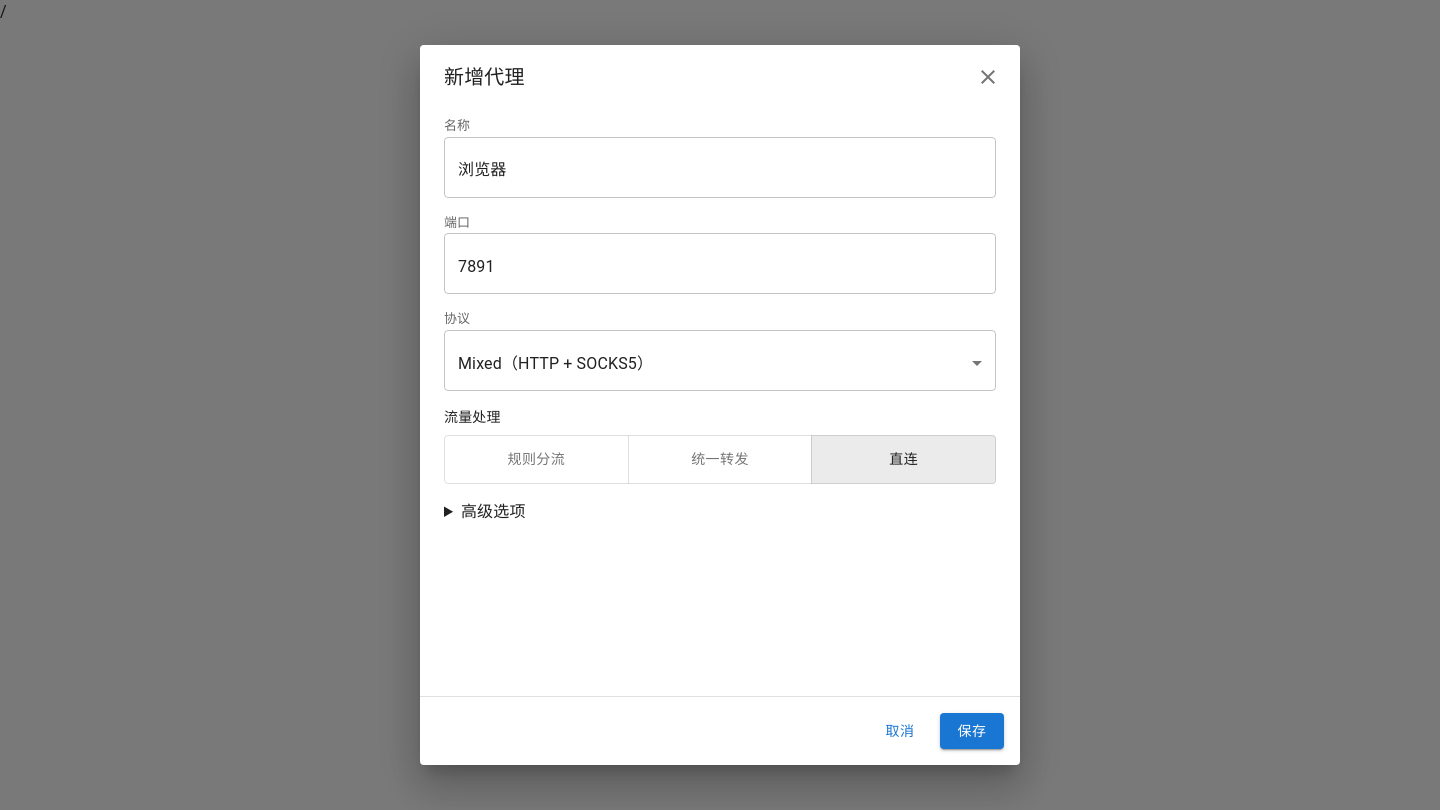
Test: ListenerDialog V4.3 › keeps validation conflicts attached to the port
The image size is (1440, 810).
Click the button "保存".
click(972, 731)  # box [940,712,1004,749]
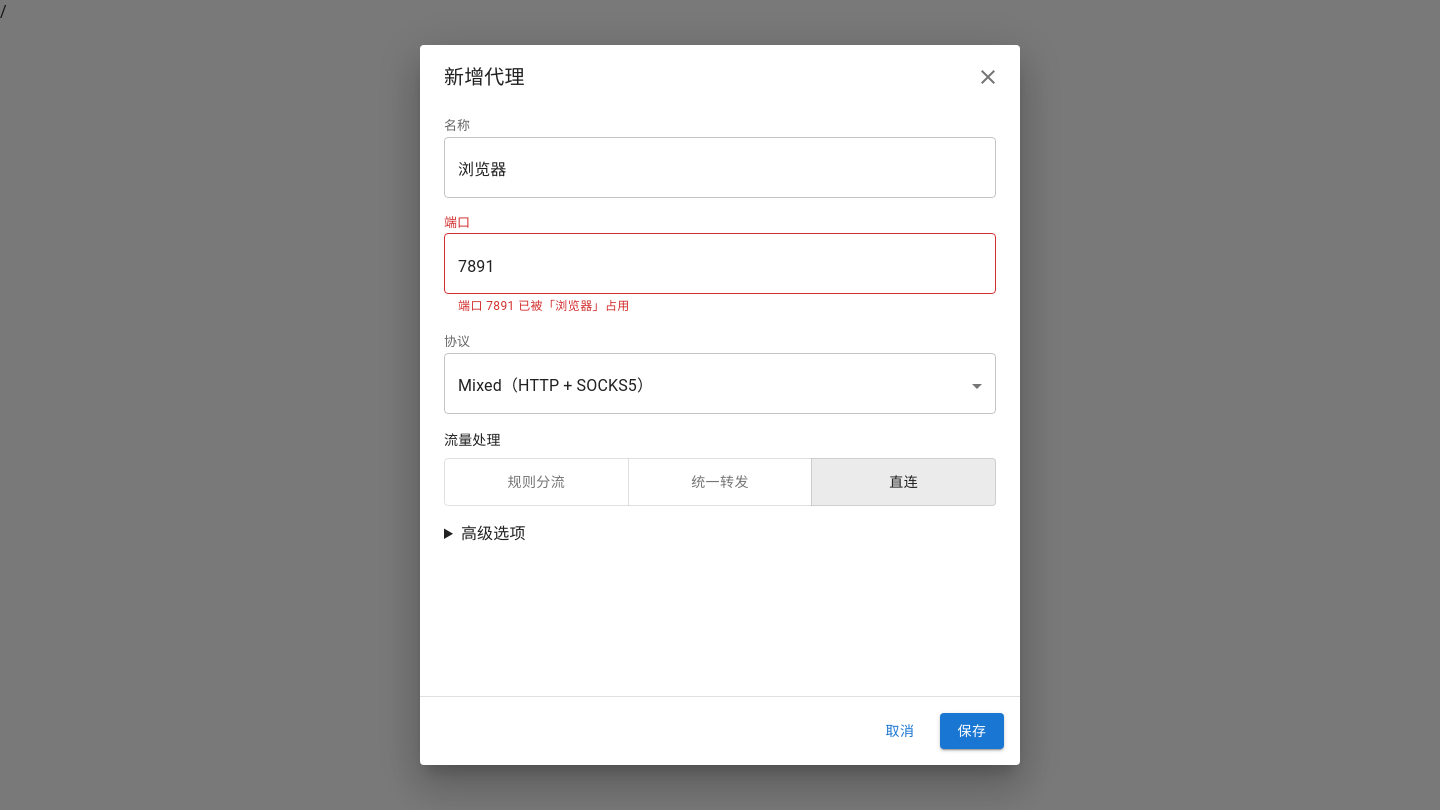
Result: the text "端口 7891 已被「浏览器」占用" is shown at [458,299,630,313]
Replace the text in the number field labelled "端口" with "7892" at (720, 266), box [444,238,996,294]
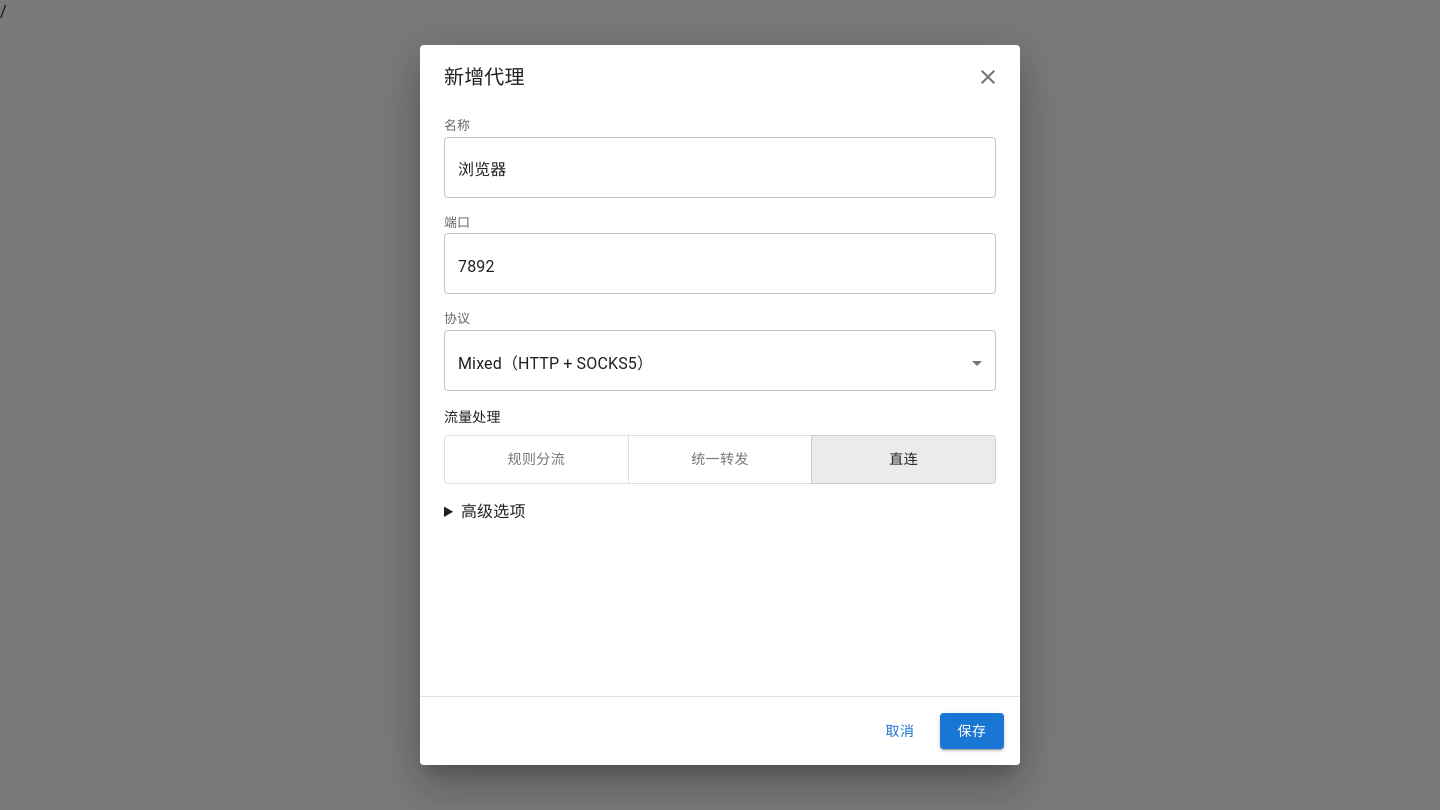
Result: the text "端口 7891 已被「浏览器」占用" is gone
